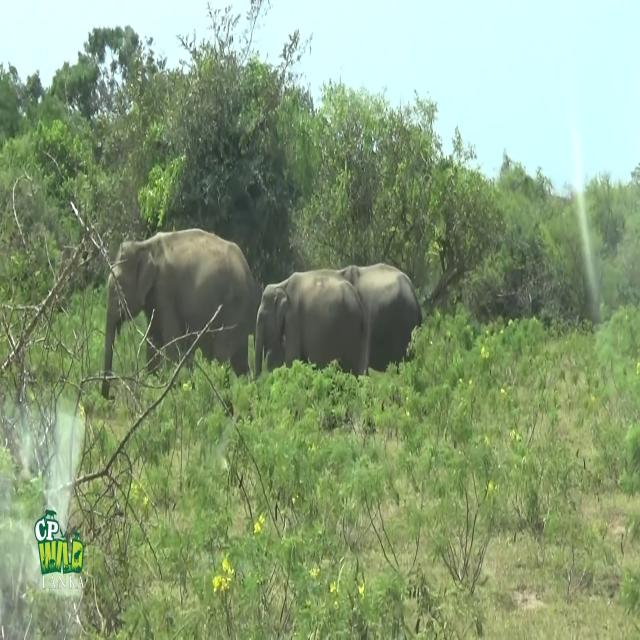Elephant: (101, 227, 262, 400), (254, 262, 422, 381)
